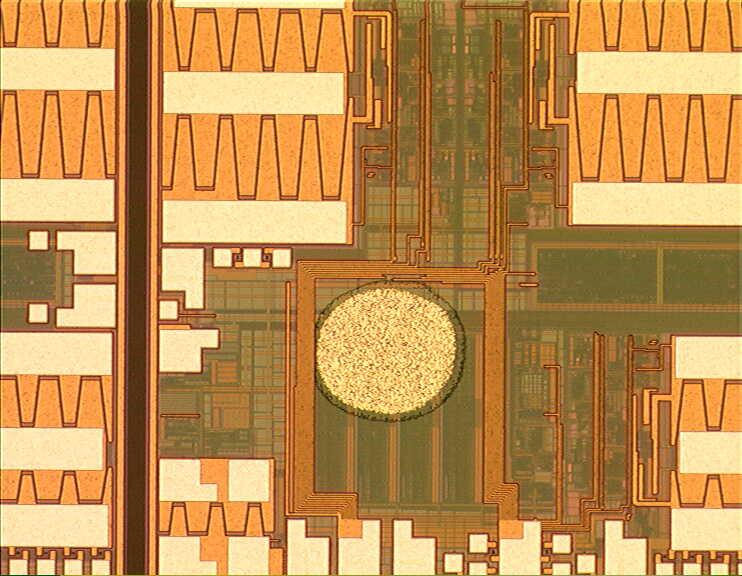BLOCK ETCH: (313, 281, 470, 427)
